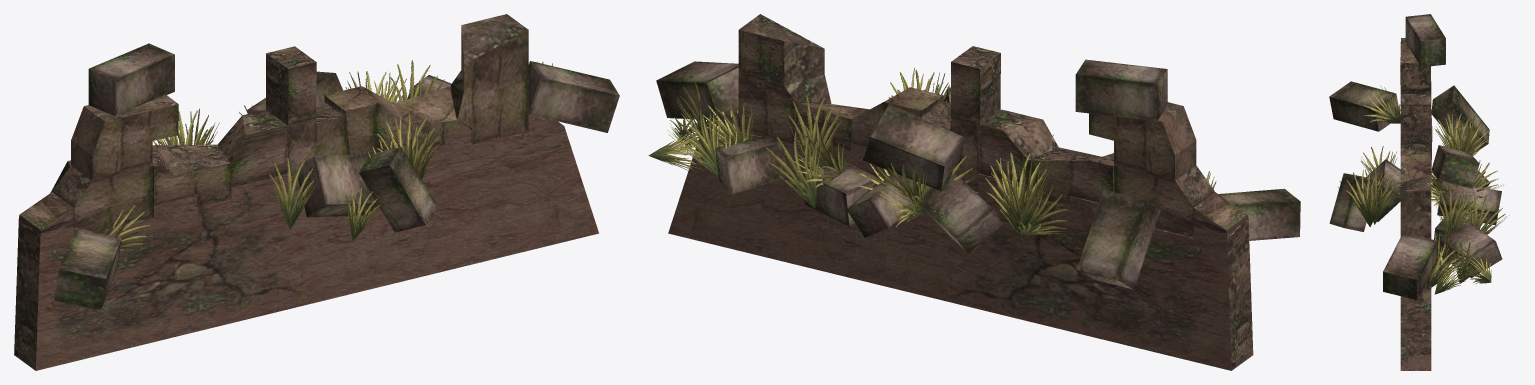
File: C1SMSTNWALH_DM.obj
3 views of the same model, side by side, from view 1: azimuth 30°, elevation 25°; view 2: azimuth 150°, elevation 25°; view 3: azimuth 270°, elevation 25° (orthographic). The views are drawn at different scales.
Parts seen in each view (by area): view 1: Node 0, Node 12, Node 9, Node 8, Node 7, Node 6, Node 5, Node 10, Node 11, Node 4; view 2: Node 0, Node 12, Node 8, Node 9, Node 4, Node 7, Node 5, Node 6, Node 2, Node 1, Node 3; view 3: Node 0, Node 6, Node 7, Node 8, Node 1, Node 5, Node 4, Node 10, Node 3, Node 12, Node 11.
Boxes of the visible parts, x1,y1,x2,y2 form: Node 0: [14, 60, 598, 370]; Node 12: [53, 95, 178, 231]; Node 9: [152, 109, 287, 207]; Node 8: [450, 14, 528, 144]; Node 7: [266, 46, 349, 190]; Node 6: [528, 61, 619, 132]; Node 5: [88, 43, 174, 115]; Node 10: [359, 147, 438, 232]; Node 11: [298, 154, 378, 217]; Node 4: [246, 71, 343, 113]; Node 0: [648, 68, 1300, 370]; Node 12: [1089, 102, 1214, 237]; Node 8: [738, 14, 831, 144]; Node 9: [979, 109, 1114, 206]; Node 4: [863, 104, 964, 190]; Node 7: [921, 46, 1000, 191]; Node 5: [1075, 59, 1167, 120]; Node 6: [656, 61, 738, 120]; Node 2: [918, 173, 1003, 253]; Node 1: [715, 134, 789, 194]; Node 3: [846, 172, 917, 237]; Node 0: [1329, 81, 1509, 370]; Node 6: [1383, 232, 1437, 300]; Node 7: [1400, 94, 1430, 154]; Node 8: [1400, 176, 1431, 238]; Node 1: [1439, 222, 1502, 277]; Node 5: [1405, 14, 1445, 67]; Node 4: [1431, 145, 1479, 188]; Node 10: [1329, 173, 1377, 231]; Node 3: [1437, 181, 1501, 224]; Node 12: [1400, 38, 1430, 94]; Node 11: [1366, 159, 1400, 221].
Bounding box in the file's own units: 8.93 × 3.82 × 3.51.
Materials: 20 (20 with a texture image).
